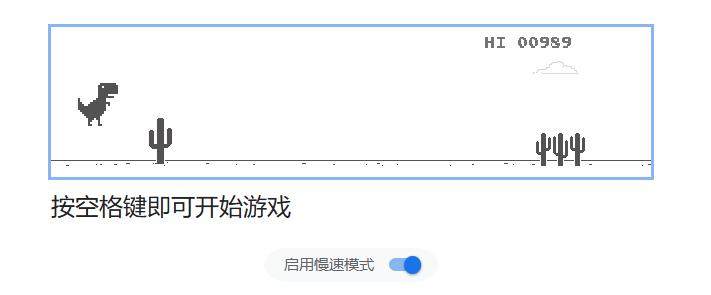cactus: (534, 132, 590, 172), (148, 116, 176, 166)
dino: (76, 80, 121, 128)
